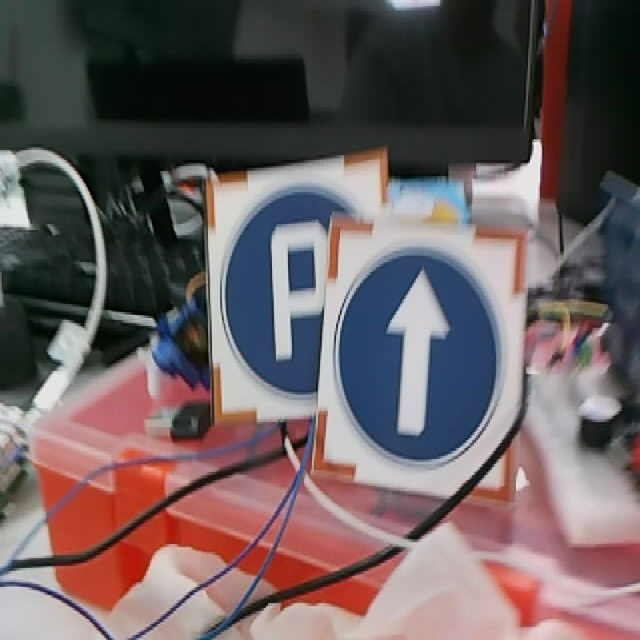parking: (206, 151, 385, 427)
straight: (313, 219, 525, 500)
